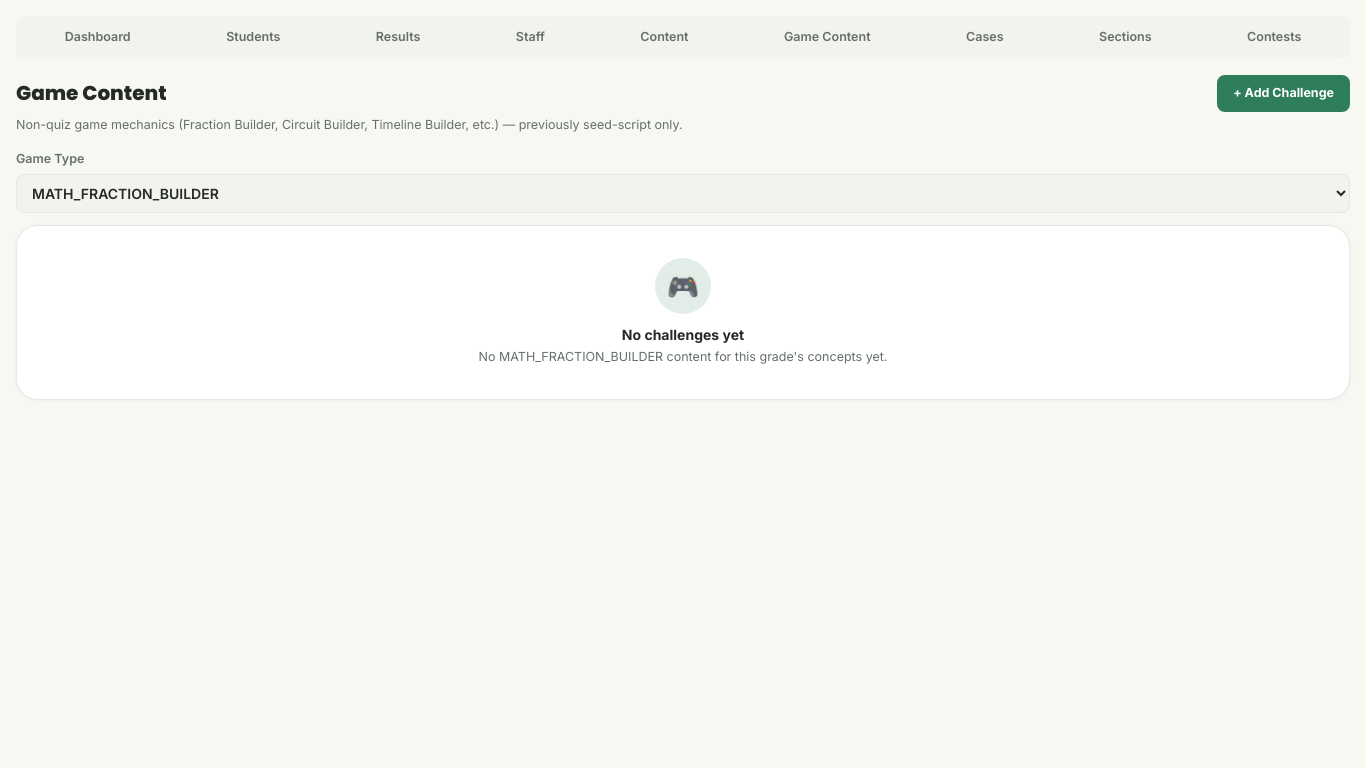
Test: AdminGameContent › '+ Add Challenge' opens a create modal defaulted to the current filter's game type
Check: the text "No challenges yet" is shown, box 622,326 -> 744,343
Click the button "+ Add Challenge".
click(1284, 93)  # box 1217,75 -> 1350,112
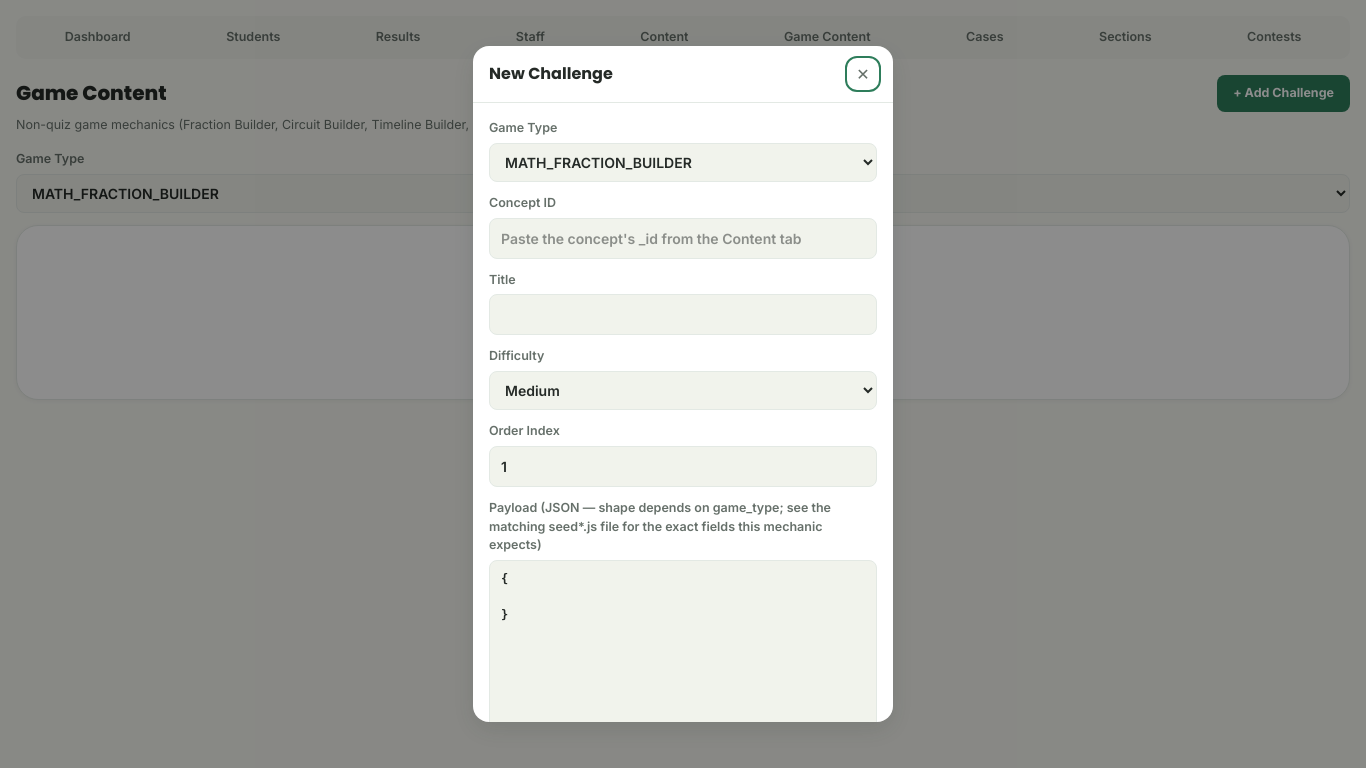
Check: the text "New Challenge" is shown, box 489,62 -> 613,86
Check: the field with placeholder "Paste the concept's _id from the Content tab" is shown, box 489,218 -> 877,259
